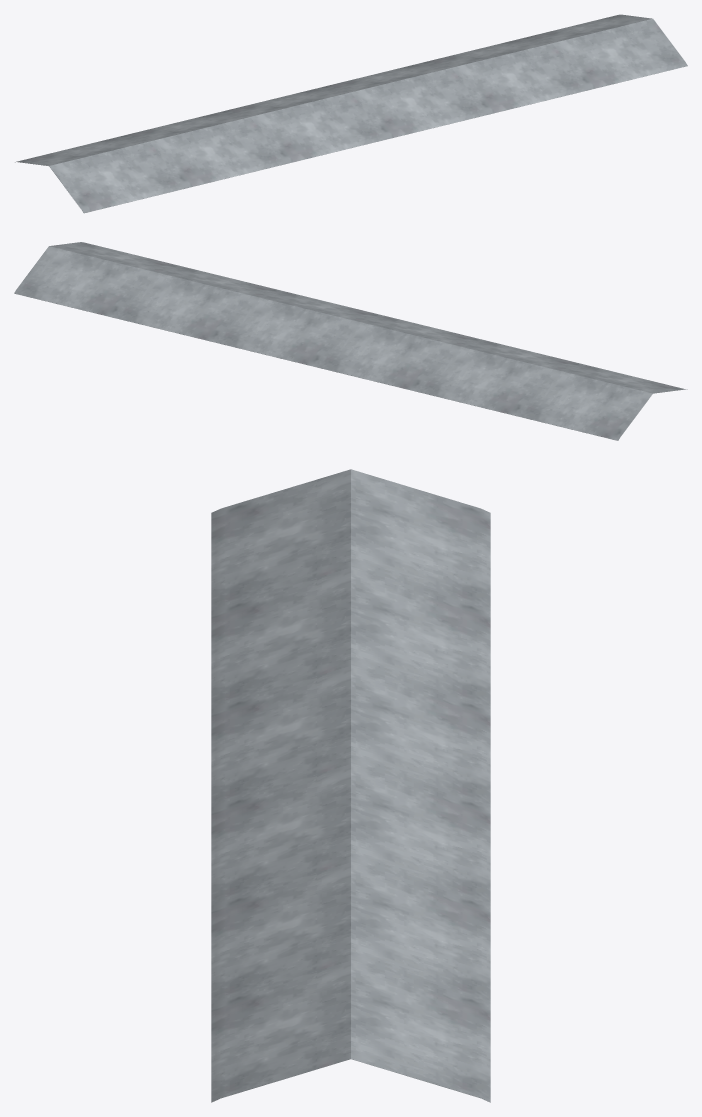
Rendered from COB-CUM-003_lod1.glb.
3 renders of one model, top to bottom at view 1: azimuth 30°, elevation 25°; view 2: azimuth 150°, elevation 25°; view 3: azimuth 270°, elevation 25°, orthographic. The views are drawn at different scales.
Parts seen in each view (by area): view 1: COB-CUM-003_peca; view 2: COB-CUM-003_peca; view 3: COB-CUM-003_peca.
Part boxes in pixels (left/top/right/bottom): COB-CUM-003_peca: left=15, top=14, right=687, bottom=213; COB-CUM-003_peca: left=14, top=242, right=687, bottom=440; COB-CUM-003_peca: left=211, top=469, right=490, bottom=1102.
Bounding box in the file's own units: 3 × 0.1038 × 0.6001.
1 material, 1 textured.
